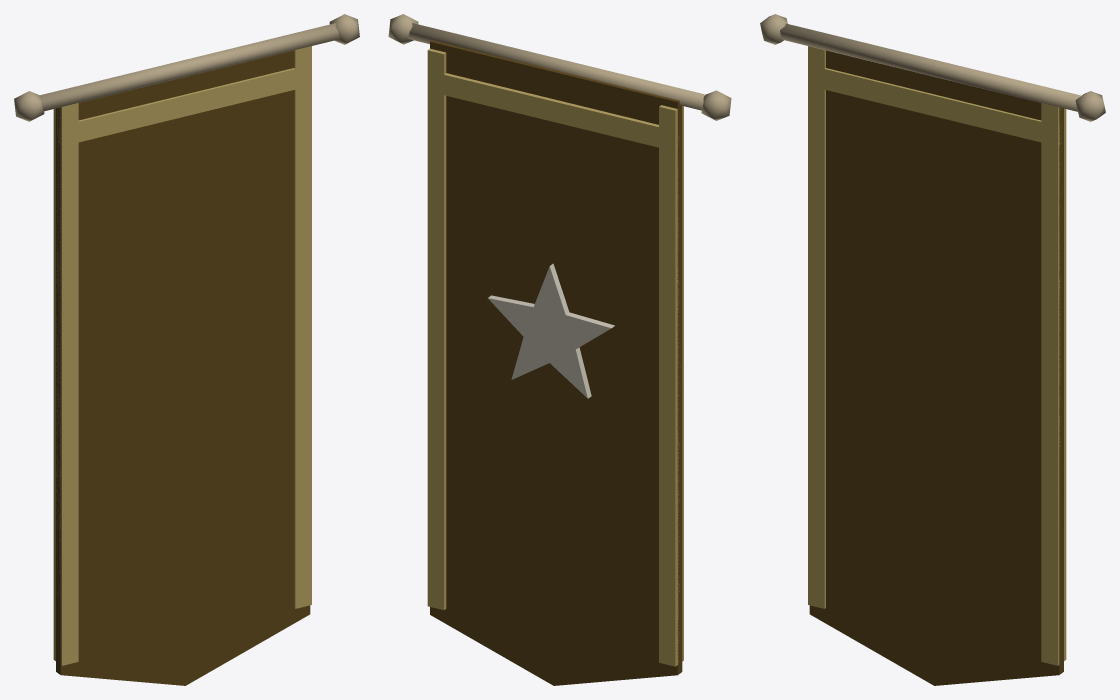
File: predictor_banner_v0.glb
3 renders of one model, left to right at view 1: azimuth 30°, elevation 25°; view 2: azimuth 150°, elevation 25°; view 3: azimuth 330°, elevation 25°, orthographic.
Parts seen in each view (by area): view 1: predictor_banner_v0; view 2: predictor_banner_v0; view 3: predictor_banner_v0.
Part boxes in pixels (x1,y1,x2,y2): predictor_banner_v0: [14, 14, 359, 685]; predictor_banner_v0: [388, 14, 731, 685]; predictor_banner_v0: [760, 14, 1105, 685].
Bounding box in the file's own units: 1.04 × 1.84 × 0.0933.
